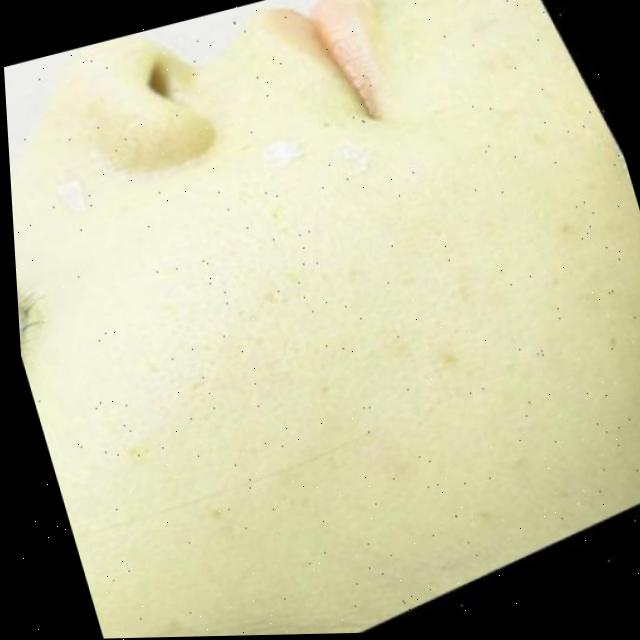Acne: (54, 157, 547, 611)
